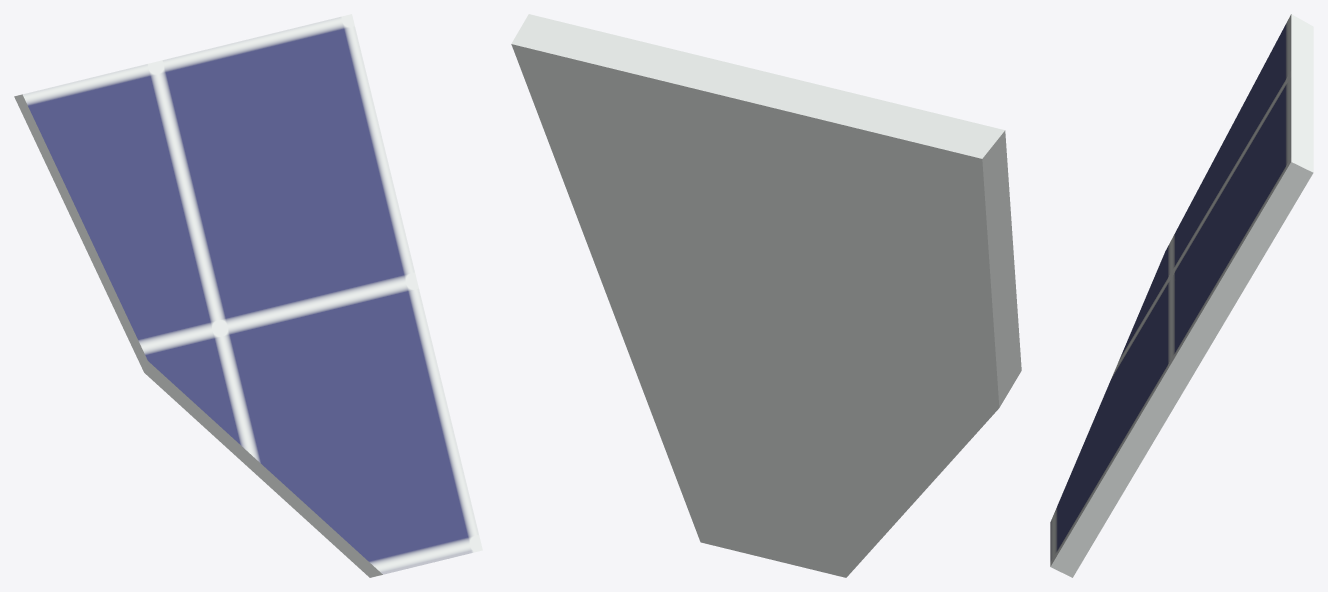
The model's file is Fragment003.fbx.
3 views of the same model, side by side, from view 1: azimuth 30°, elevation 25°; view 2: azimuth 150°, elevation 25°; view 3: azimuth 270°, elevation 25° (orthographic). The views are drawn at different scales.
Visible parts, largest first — view 1: SatelliteFrag.003; view 2: SatelliteFrag.003; view 3: SatelliteFrag.003.
Part boxes in pixels (bbox=[...]): SatelliteFrag.003: bbox=[14, 14, 482, 577]; SatelliteFrag.003: bbox=[511, 14, 1021, 577]; SatelliteFrag.003: bbox=[1050, 14, 1313, 577].
Bounding box in the file's own units: 138 × 181 × 104.
